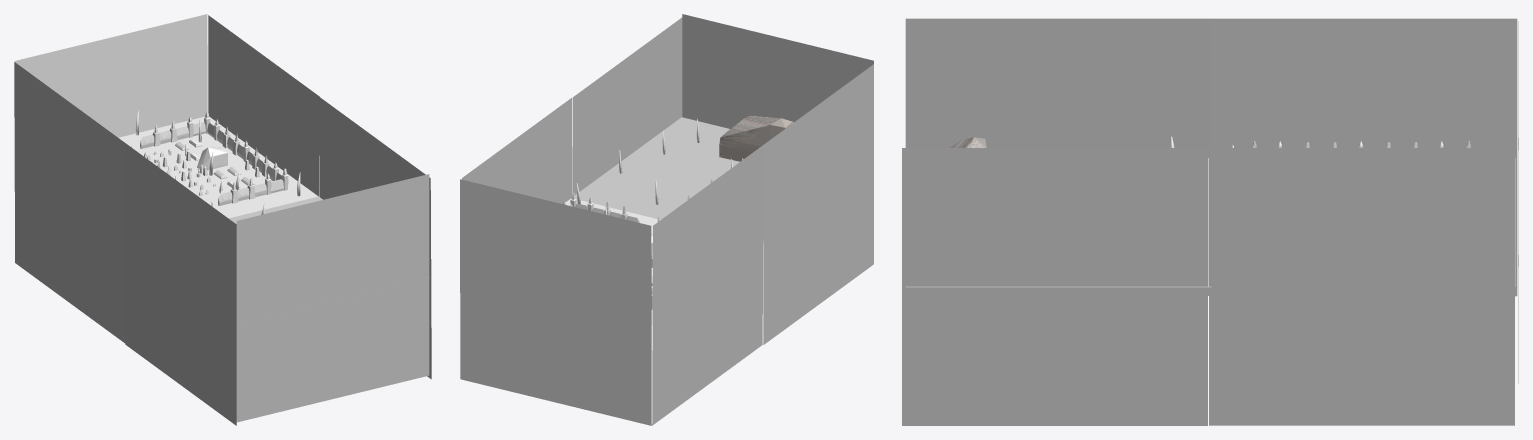
The model's file is Hitbox.gltf.
3 renders of one model, left to right at view 1: azimuth 30°, elevation 25°; view 2: azimuth 150°, elevation 25°; view 3: azimuth 270°, elevation 25°, orthographic. The views are drawn at different scales.
Parts seen in each view (by area): view 1: SubMesh_83.011, SubMesh_83.004, SubMesh_83.005, SubMesh_83.010, SubMesh_83.006, SubMesh_83.009, SubMesh_83.003, SubMesh_84.003, SubMesh_83.007; view 2: SubMesh_83.010, SubMesh_83.004, SubMesh_83.005, SubMesh_83.011, SubMesh_83.009, SubMesh_83.007, SubMesh_83.006, Templo_0, SubMesh_83.003; view 3: SubMesh_83.006, SubMesh_83.009, SubMesh_83.005, SubMesh_83.004, SubMesh_83.007.
Boxes of the visible parts, x1=… form: SubMesh_83.011: x1=236, y1=174, x2=429, y2=422; SubMesh_83.004: x1=125, y1=143, x2=236, y2=425; SubMesh_83.005: x1=14, y1=62, x2=125, y2=343; SubMesh_83.010: x1=14, y1=14, x2=207, y2=137; SubMesh_83.006: x1=208, y1=15, x2=319, y2=196; SubMesh_83.009: x1=319, y1=97, x2=431, y2=379; SubMesh_83.003: x1=118, y1=116, x2=318, y2=218; SubMesh_84.003: x1=197, y1=147, x2=227, y2=170; SubMesh_83.007: x1=229, y1=196, x2=429, y2=277; SubMesh_83.010: x1=460, y1=179, x2=651, y2=425; SubMesh_83.004: x1=763, y1=64, x2=873, y2=344; SubMesh_83.005: x1=652, y1=145, x2=763, y2=425; SubMesh_83.011: x1=682, y1=14, x2=873, y2=128; SubMesh_83.009: x1=572, y1=17, x2=682, y2=194; SubMesh_83.007: x1=575, y1=117, x2=763, y2=243; SubMesh_83.006: x1=462, y1=97, x2=572, y2=203; Templo_0: x1=719, y1=115, x2=793, y2=161; SubMesh_83.003: x1=565, y1=198, x2=660, y2=324; SubMesh_83.006: x1=1209, y1=148, x2=1514, y2=425; SubMesh_83.009: x1=902, y1=148, x2=1207, y2=425; SubMesh_83.005: x1=1211, y1=18, x2=1517, y2=296; SubMesh_83.004: x1=905, y1=18, x2=1211, y2=295; SubMesh_83.007: x1=906, y1=158, x2=1211, y2=287.
Size of the model in its own units: 57.13 by 57.65 by 114.
